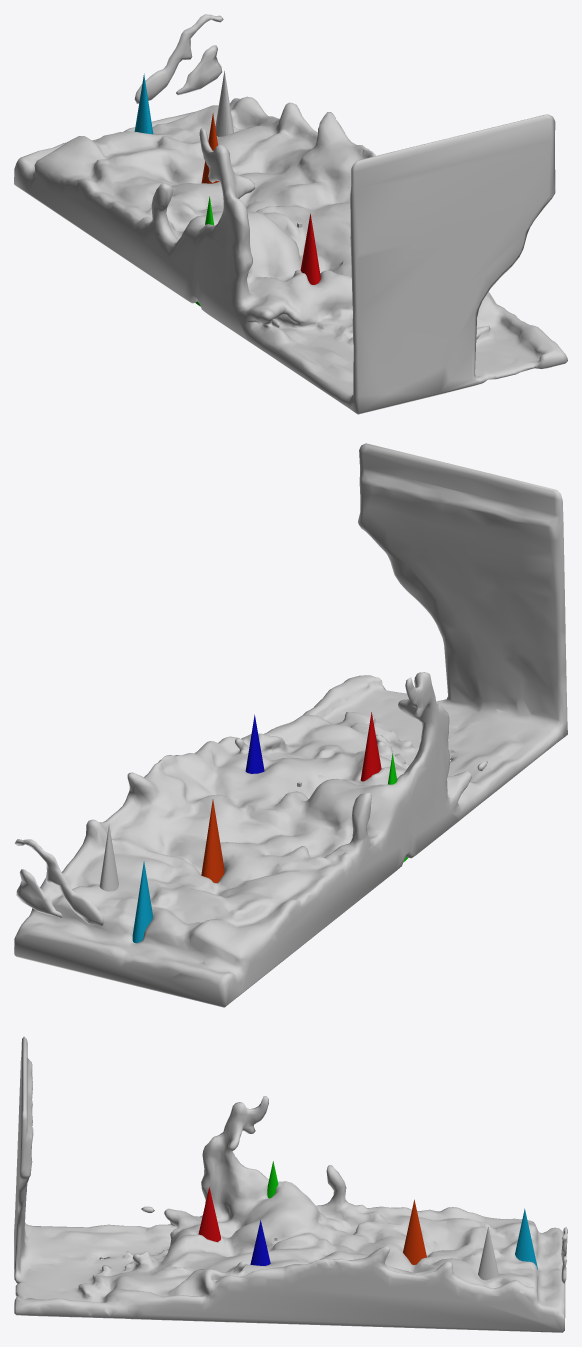
The picture shows the model from 3 angles, top to bottom: view 1: azimuth 30°, elevation 25°; view 2: azimuth 150°, elevation 25°; view 3: azimuth 270°, elevation 25°; orthographic projection. The views are drawn at different scales.
Parts seen in each view (by area): view 1: Liquid_Domain, 円錐.001, 円錐, 円錐.005; view 2: Liquid_Domain, 円錐.004, 円錐.005, 円錐.001, 円錐; view 3: Liquid_Domain, 円錐.004, 円錐.001, 円錐.005, 円錐, 円錐.002.
Boxes of the visible parts, x1,y1,x2,y2 form: Liquid_Domain: (14,14,567,414); 円錐.001: (300,213,320,284); 円錐: (215,71,233,136); 円錐.005: (134,73,153,134); Liquid_Domain: (14,443,567,1007); 円錐.004: (201,799,224,882); 円錐.005: (132,861,152,943); 円錐.001: (360,712,381,781); 円錐: (99,824,118,891); Liquid_Domain: (14,1036,567,1332); 円錐.004: (403,1199,426,1264); 円錐.001: (198,1187,221,1242); 円錐.005: (515,1208,537,1269); 円錐: (478,1227,498,1280); 円錐.002: (250,1220,270,1265).
Bounding box in the file's own units: 129 × 158 × 363.
